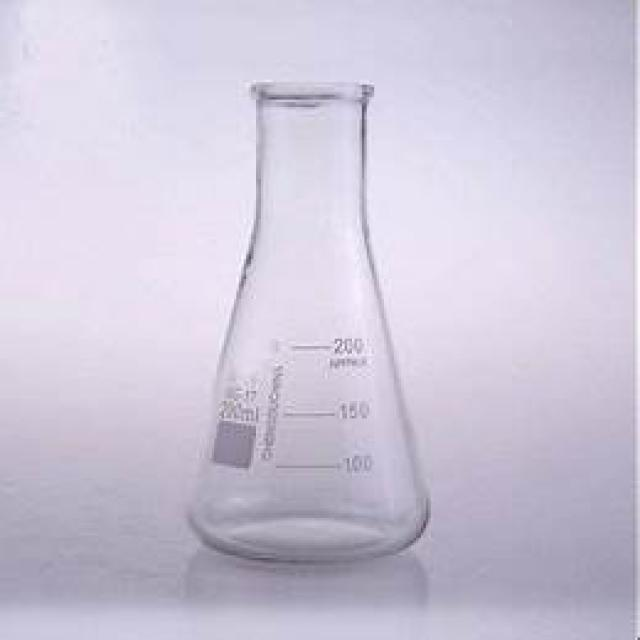Titrarion: (174, 45, 441, 565)
